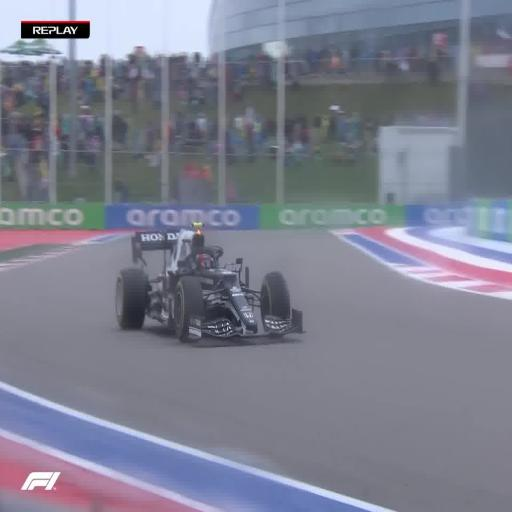f1_car: (115, 223, 303, 340)
